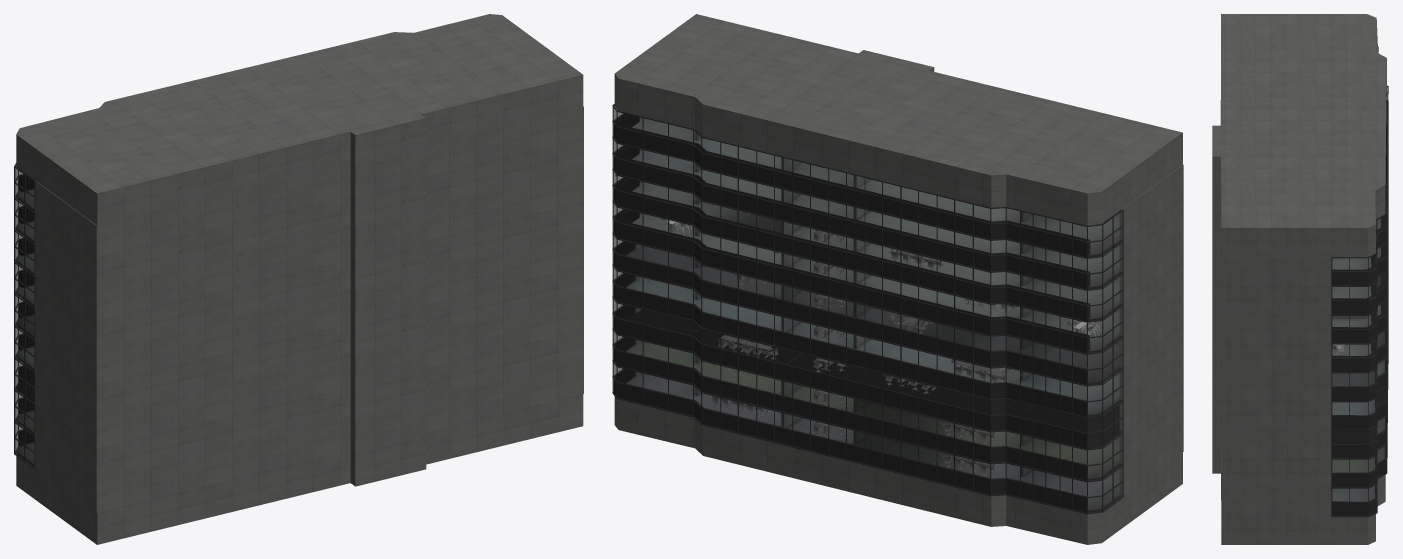
The model's file is office-mobile.glb.
3 views of the same model, side by side, from view 1: azimuth 30°, elevation 25°; view 2: azimuth 150°, elevation 25°; view 3: azimuth 270°, elevation 25° (orthographic). The views are drawn at different scales.
Visible parts, largest first — view 1: BLD_OFFICE_06_w2_0, BLD_OFFICE_09_w2_0, BLD_OFFICE_010_w2_0, BLD_OFFICE_01_glass_0, BLD_OFFICE_02_rams_0, BLD_OFFICE_05_walls [BLD_OFFICE_05]_0, BLD_OFFICE_00_walls_exterior_0; view 2: BLD_OFFICE_01_glass_0, BLD_OFFICE_00_walls_exterior_0, BLD_OFFICE_09_w2_0, BLD_OFFICE_05_walls [BLD_OFFICE_05]_0, BLD_OFFICE_02_rams_0, BLD_OFFICE_06_w2_0, BLD_OFFICE_010_w2_0; view 3: BLD_OFFICE_09_w2_0, BLD_OFFICE_06_w2_0, BLD_OFFICE_01_glass_0, BLD_OFFICE_00_walls_exterior_0, BLD_OFFICE_05_walls [BLD_OFFICE_05]_0, BLD_OFFICE_010_w2_0, BLD_OFFICE_02_rams_0.
Boxes of the visible parts, x1,y1,x2,y2 form: BLD_OFFICE_06_w2_0: [35, 106, 583, 512]; BLD_OFFICE_09_w2_0: [16, 14, 583, 225]; BLD_OFFICE_010_w2_0: [16, 394, 583, 544]; BLD_OFFICE_01_glass_0: [15, 168, 33, 466]; BLD_OFFICE_02_rams_0: [14, 163, 35, 468]; BLD_OFFICE_05_walls [BLD_OFFICE_05]_0: [16, 167, 35, 466]; BLD_OFFICE_00_walls_exterior_0: [19, 175, 34, 445]; BLD_OFFICE_01_glass_0: [613, 108, 1122, 512]; BLD_OFFICE_00_walls_exterior_0: [614, 114, 1090, 512]; BLD_OFFICE_09_w2_0: [614, 14, 1182, 225]; BLD_OFFICE_05_walls [BLD_OFFICE_05]_0: [615, 106, 1121, 512]; BLD_OFFICE_02_rams_0: [612, 104, 1123, 514]; BLD_OFFICE_06_w2_0: [635, 117, 1183, 496]; BLD_OFFICE_010_w2_0: [614, 396, 1182, 544]; BLD_OFFICE_09_w2_0: [1212, 14, 1386, 256]; BLD_OFFICE_06_w2_0: [1212, 100, 1331, 516]; BLD_OFFICE_01_glass_0: [1332, 87, 1387, 515]; BLD_OFFICE_00_walls_exterior_0: [1332, 101, 1387, 515]; BLD_OFFICE_05_walls [BLD_OFFICE_05]_0: [1332, 92, 1386, 501]; BLD_OFFICE_010_w2_0: [1212, 444, 1385, 544]; BLD_OFFICE_02_rams_0: [1331, 46, 1388, 517].
Bounding box in the file's own units: 285 × 195 × 98.47.
Materials: 13 (3 with a texture image).
